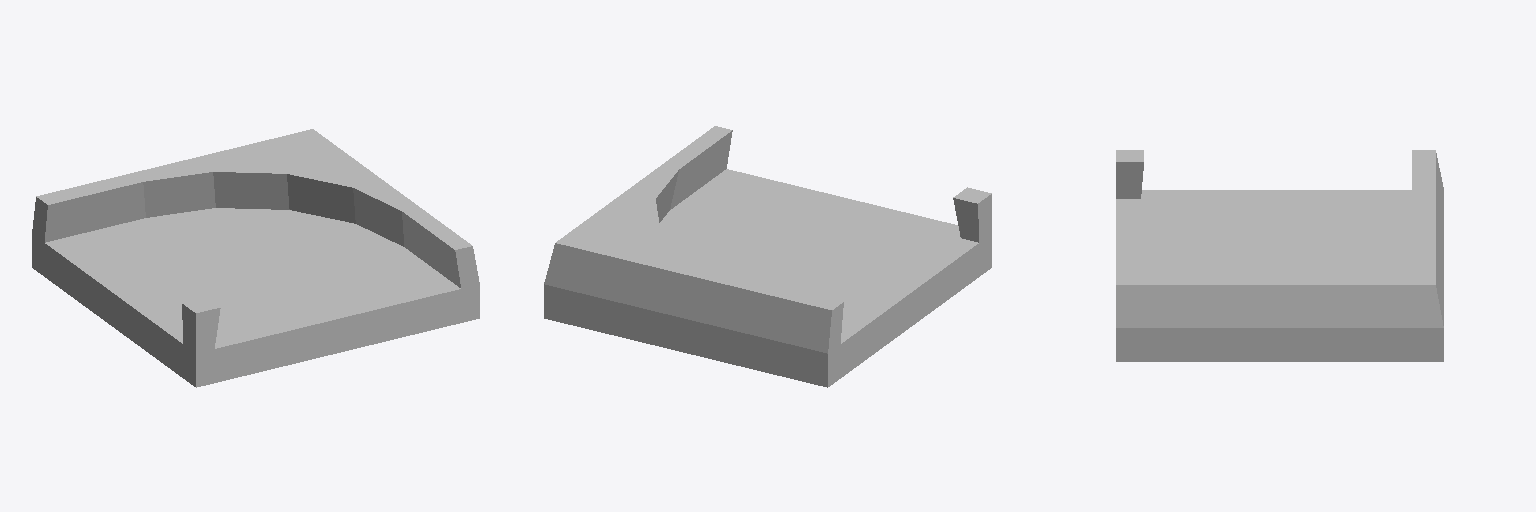
Rendered from mcorner.obj.
The picture shows the model from 3 angles: view 1: azimuth 30°, elevation 25°; view 2: azimuth 150°, elevation 25°; view 3: azimuth 270°, elevation 25°; orthographic projection.
Visible parts, largest first — view 1: Corner_mesh_Cobblestone.003_0, Corner_mesh_Material.003_0; view 2: Corner_mesh_Material.003_0, Corner_mesh_Cobblestone.003_0; view 3: Corner_mesh_Material.003_0, Corner_mesh_Cobblestone.003_0.
Boxes of the visible parts, box(x1,y1,x2,y2) form: Corner_mesh_Cobblestone.003_0: box(32, 208, 479, 387); Corner_mesh_Material.003_0: box(32, 129, 479, 353); Corner_mesh_Material.003_0: box(544, 126, 991, 387); Corner_mesh_Cobblestone.003_0: box(659, 169, 991, 386); Corner_mesh_Material.003_0: box(1116, 150, 1443, 361); Corner_mesh_Cobblestone.003_0: box(1116, 190, 1411, 275).
Size of the model in its own units: 37.5 by 9.38 by 37.5.